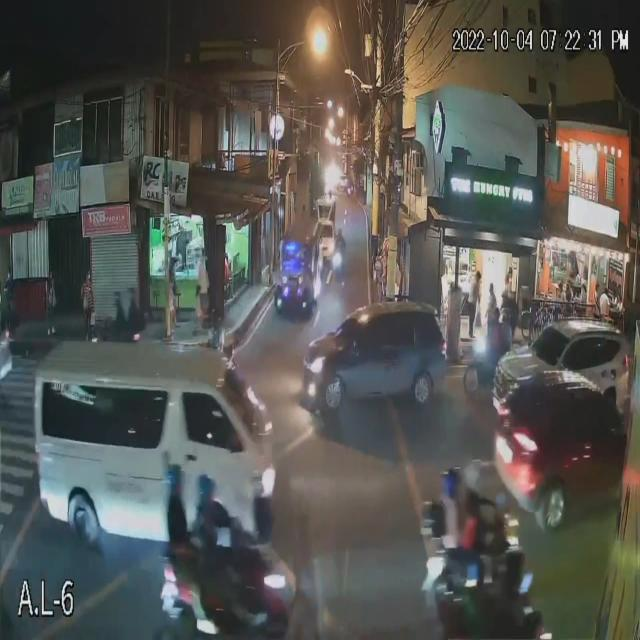Full-Faced: (162, 461, 190, 504), (443, 466, 464, 495), (196, 473, 215, 505)
Half-Faced: (460, 456, 485, 496)
